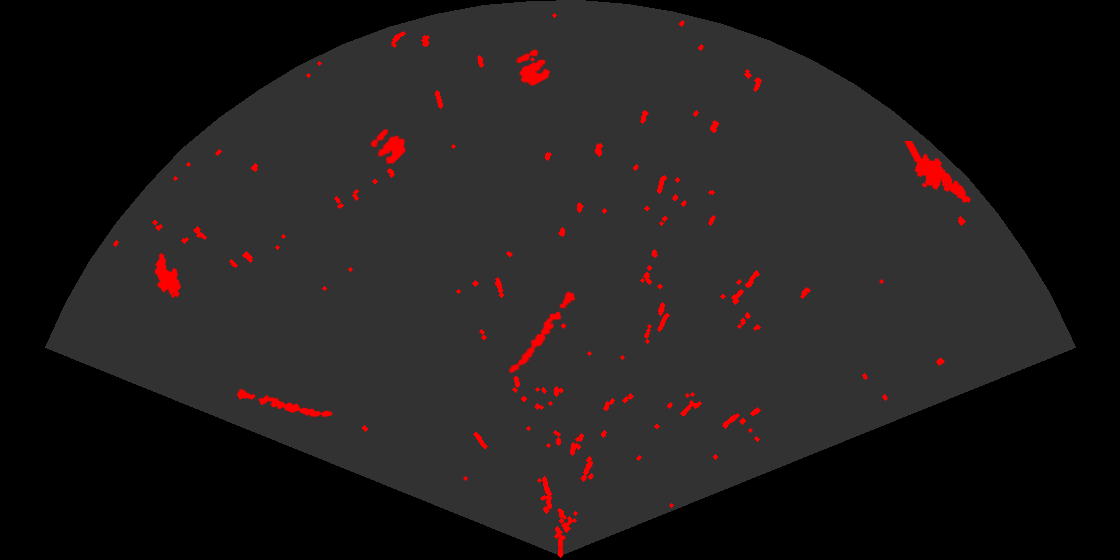AUV: (153, 251, 183, 300)
ball: (514, 48, 552, 88), (369, 127, 407, 166)
chain: (507, 290, 577, 375), (235, 387, 334, 419)
frogman: (903, 141, 972, 204)
